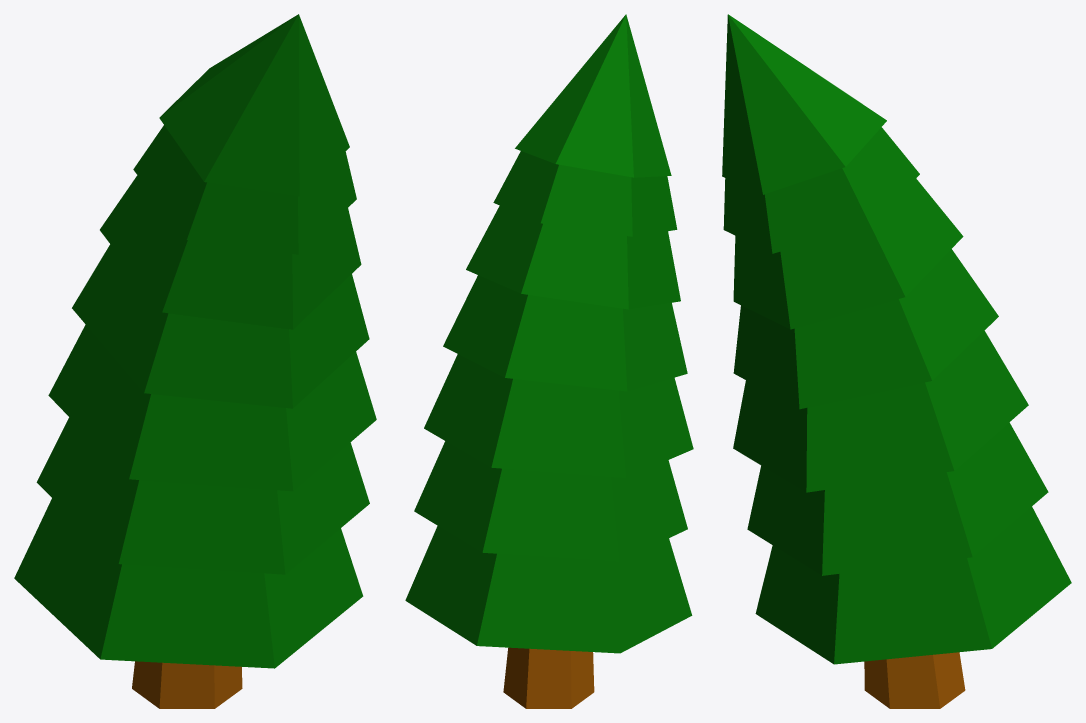
Rendered from tree 2.glb.
The picture shows the model from 3 angles, left to right: view 1: azimuth 30°, elevation 25°; view 2: azimuth 150°, elevation 25°; view 3: azimuth 270°, elevation 25°; orthographic projection. The views are drawn at different scales.
Visible parts, largest first — view 1: Cylinder.002, Cylinder; view 2: Cylinder.002, Cylinder; view 3: Cylinder.002, Cylinder.
Part boxes in pixels (left/top/right/bottom): Cylinder.002: left=14, top=14, right=376, bottom=668; Cylinder: left=132, top=661, right=242, bottom=708; Cylinder.002: left=405, top=14, right=693, bottom=653; Cylinder: left=503, top=647, right=594, bottom=708; Cylinder.002: left=722, top=14, right=1071, bottom=664; Cylinder: left=864, top=652, right=965, bottom=708.
Size of the model in its own units: 5.49 by 14.92 by 6.95.
